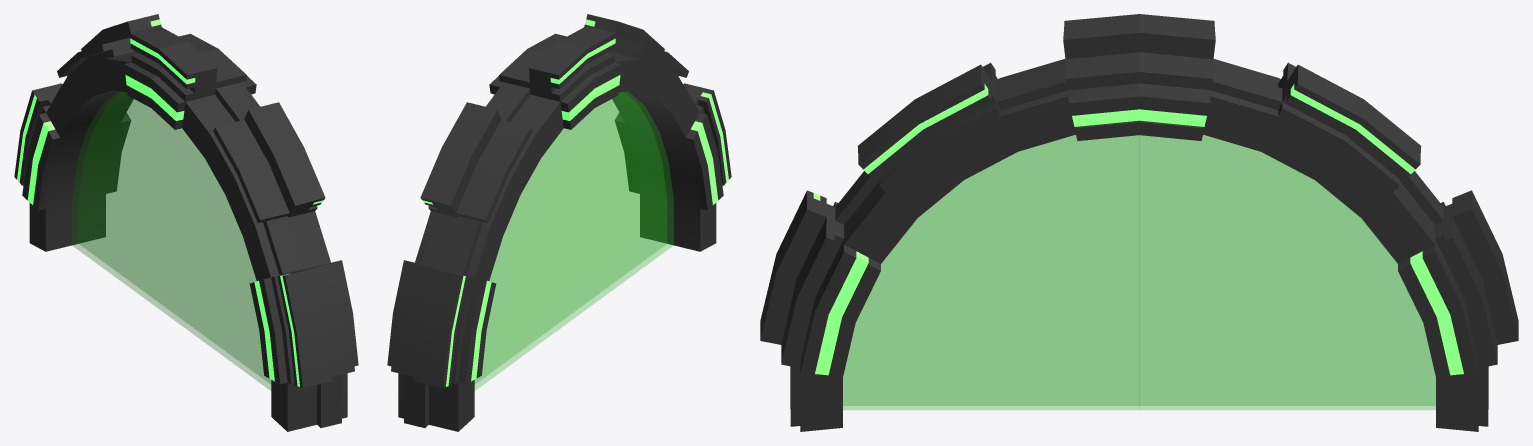
The model's file is GreenGateReg.fbx.
The picture shows the model from 3 angles, left to right: view 1: azimuth 30°, elevation 25°; view 2: azimuth 150°, elevation 25°; view 3: azimuth 270°, elevation 25°; orthographic projection. The views are drawn at different scales.
Parts seen in each view (by area): view 1: gate_ground_green, green; view 2: gate_ground_green, green; view 3: green, gate_ground_green.
Part boxes in pixels (box(x1,y1,x2,y2)): gate_ground_green: box(14, 14, 358, 431); green: box(72, 91, 271, 390); gate_ground_green: box(387, 14, 731, 431); green: box(474, 91, 673, 390); green: box(843, 135, 1435, 409); gate_ground_green: box(760, 14, 1518, 431).
Bounding box in the file's own units: 1.12 × 3.95 × 7.14.
